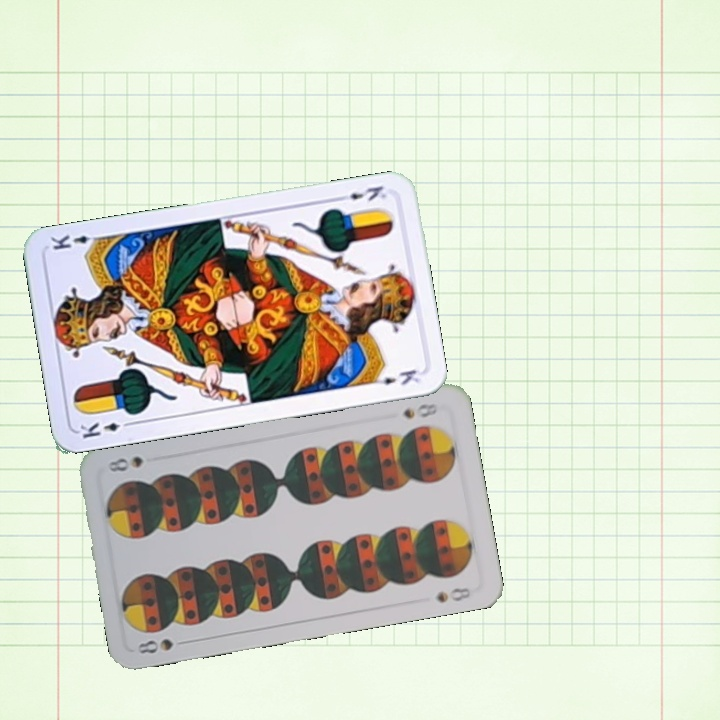EK: (76, 417, 135, 441), (332, 181, 389, 204)
S8: (134, 634, 192, 656), (398, 399, 440, 421)
